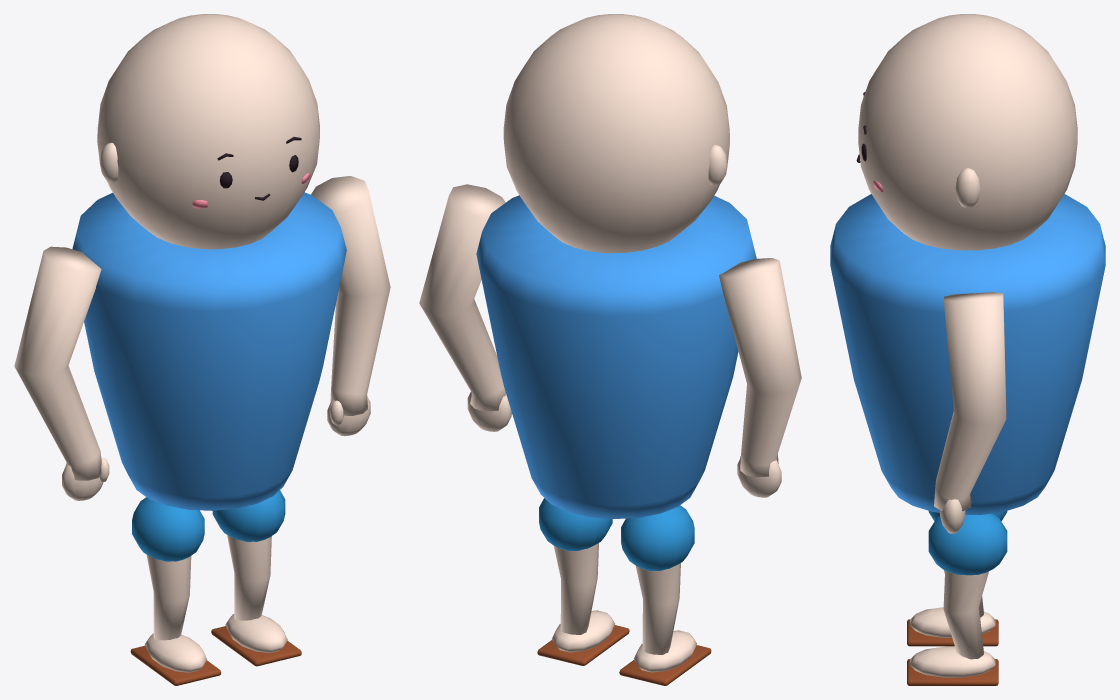
Rendered from hero-sturdy.glb.
3 views of the same model, side by side, from view 1: azimuth 30°, elevation 25°; view 2: azimuth 150°, elevation 25°; view 3: azimuth 270°, elevation 25° (orthographic).
Parts seen in each view (by area): view 1: body, head, arm-left, arm-right, leg-left, leg-right; view 2: body, head, arm-left, arm-right, leg-left, leg-right; view 3: body, head, arm-right, leg-right, leg-left.
Part boxes in pixels (bbox=[...]): body: bbox=[72, 192, 346, 510]; head: bbox=[97, 14, 319, 249]; arm-left: bbox=[14, 246, 109, 500]; arm-right: bbox=[311, 176, 390, 436]; leg-left: bbox=[130, 497, 221, 685]; leg-right: bbox=[211, 490, 301, 666]; body: bbox=[476, 195, 756, 518]; head: bbox=[503, 14, 729, 253]; arm-left: bbox=[719, 258, 801, 497]; arm-right: bbox=[419, 184, 511, 431]; leg-left: bbox=[619, 505, 711, 685]; leg-right: bbox=[537, 498, 629, 665]; body: bbox=[830, 194, 1105, 514]; head: bbox=[856, 14, 1077, 250]; arm-right: bbox=[934, 292, 1006, 533]; leg-right: bbox=[907, 513, 1007, 685]; leg-left: bbox=[907, 511, 1007, 646].
Size of the model in its own units: 1.56 by 2.53 by 0.9985.
